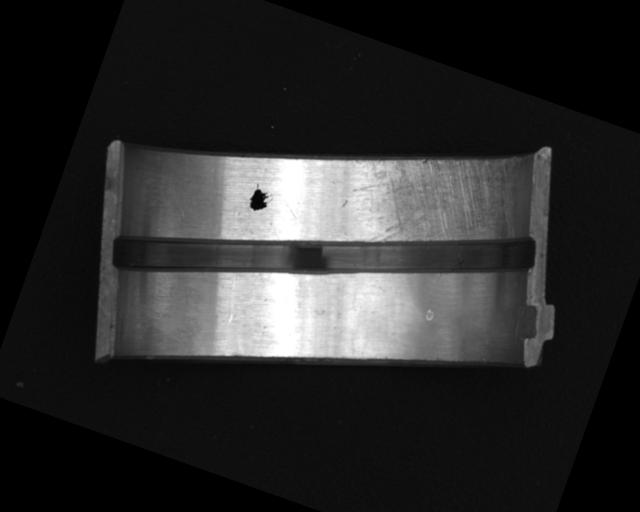blot: (245, 181, 275, 215)
bruise: (423, 305, 436, 322)
gap: (103, 106, 539, 398)
nick: (218, 272, 247, 323)
scratch: (333, 112, 522, 283)
